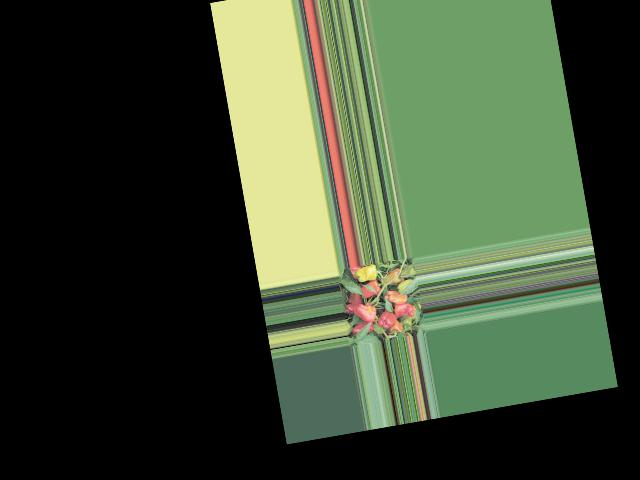bell_pepper: (391, 320, 403, 335)
